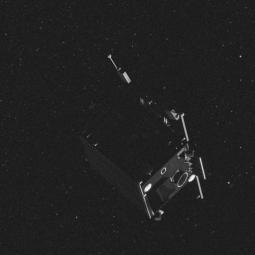proba_2: (75, 56, 204, 240)
